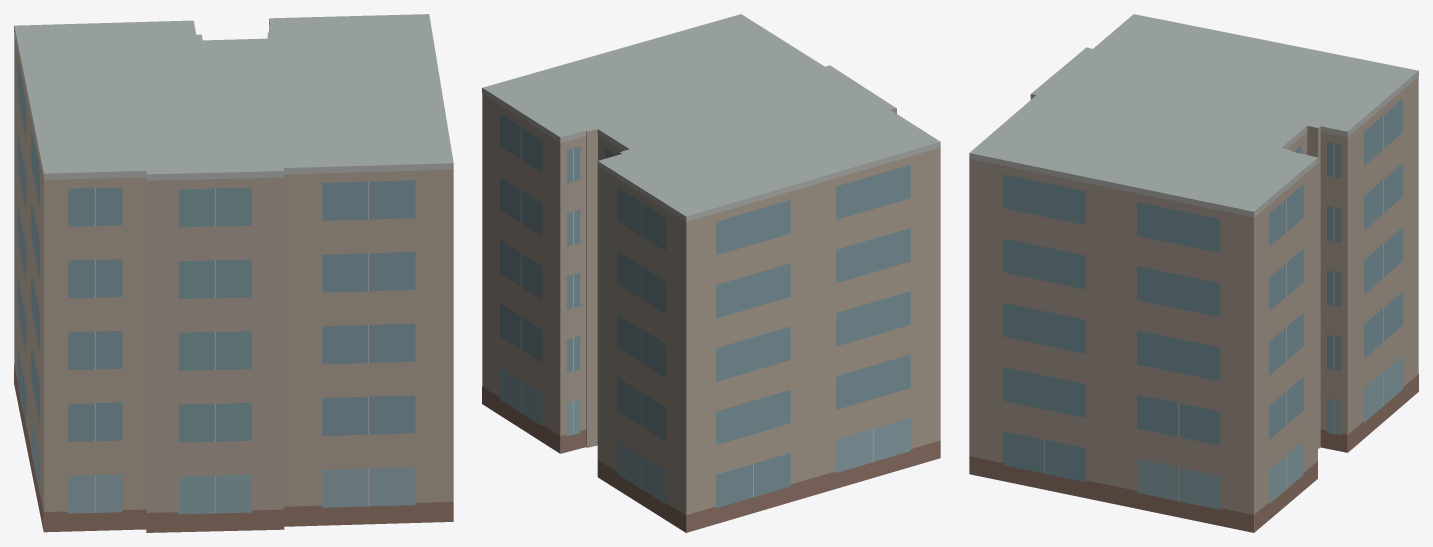
File: survey-upis-32941601.glb
3 renders of one model, left to right at view 1: azimuth 30°, elevation 25°; view 2: azimuth 150°, elevation 25°; view 3: azimuth 270°, elevation 25°, orthographic. The views are drawn at different scales.
Parts seen in each view (by area): view 1: survey-upis-32941601.tmp; view 2: survey-upis-32941601.tmp; view 3: survey-upis-32941601.tmp.
Boxes of the visible parts, <box> form: survey-upis-32941601.tmp: <box>14,14,453,532</box>; survey-upis-32941601.tmp: <box>482,14,940,532</box>; survey-upis-32941601.tmp: <box>969,14,1418,532</box>.
Size of the model in its own units: 18.11 by 13.7 by 17.39.
